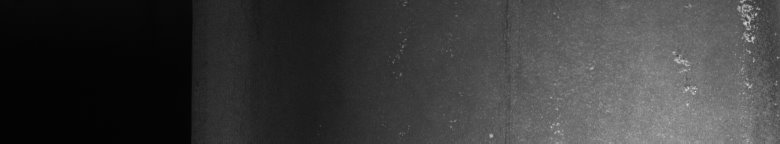hc: (673, 4, 764, 94)
